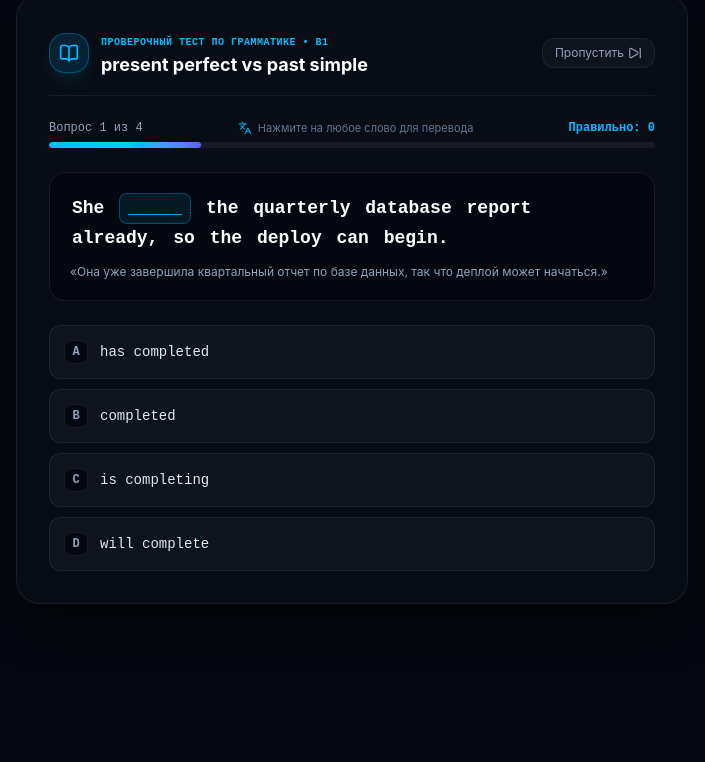
Criterion 8: Component Rendering and User Interactions › TopicQuizView: wrong answer displays explanation for both wrong and correct options
# Option 1 ("completed") is wrong for question 1 (correct is option 0 "has completed")
Click the button with test id "quiz-option-1" at (138, 416), box [49, 388, 655, 442]
(page scrolled)
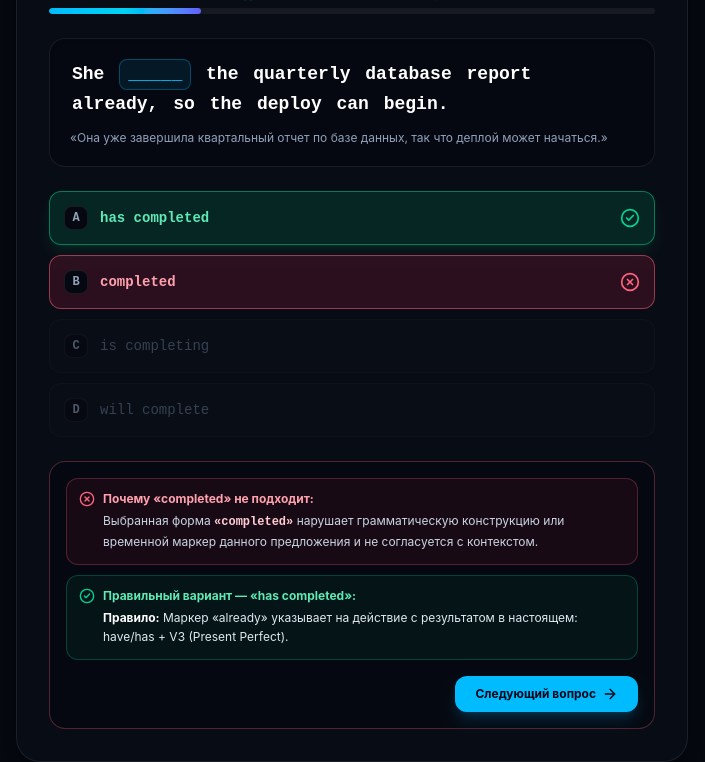
Expected: the element with test id "quiz-feedback-card" shows "Почему «completed» не подходит", [49, 460, 655, 728]
Expected: the element with test id "quiz-feedback-card" shows "Правильный вариант — «has completed»", [49, 460, 655, 728]
